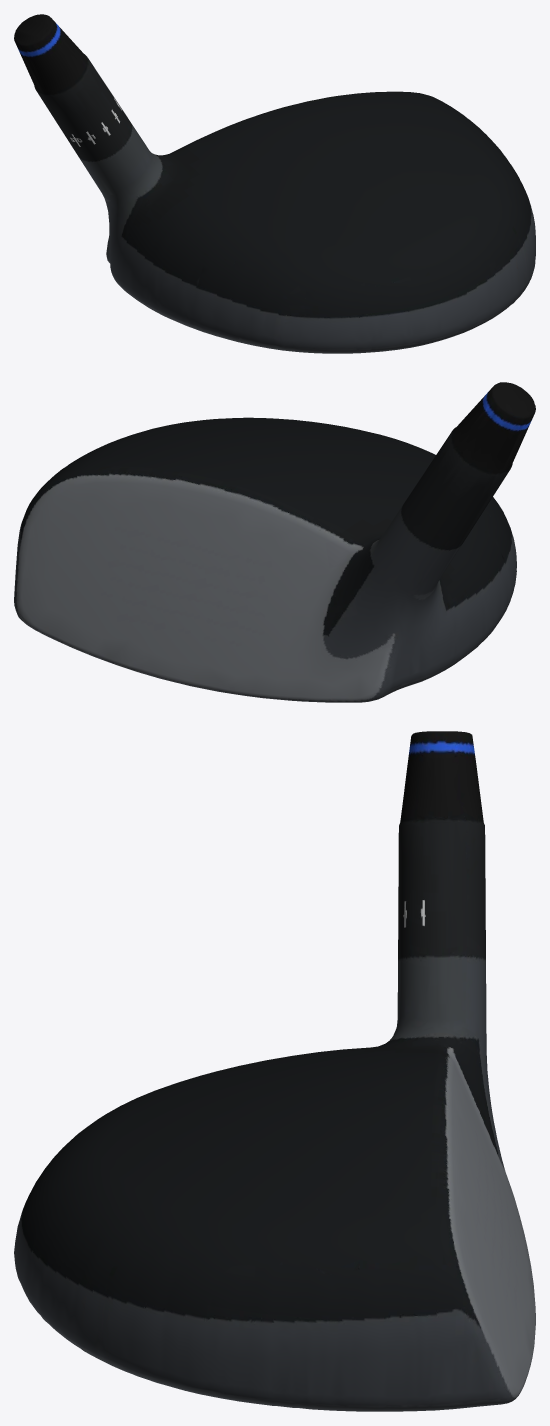
The picture shows the model from 3 angles, top to bottom: view 1: azimuth 30°, elevation 25°; view 2: azimuth 150°, elevation 25°; view 3: azimuth 270°, elevation 25°; orthographic projection. The views are drawn at different scales.
Parts seen in each view (by area): view 1: head; view 2: head; view 3: head.
Part boxes in pixels (x1,y1,x2,y2): head: (14,14,535,353); head: (14,382,535,702); head: (14,731,535,1411).
Bounding box in the file's own units: 0.1158 × 0.0736 × 0.0824.
1 material, 1 textured.
